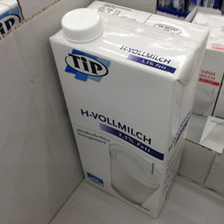milk: (49, 1, 213, 218)
